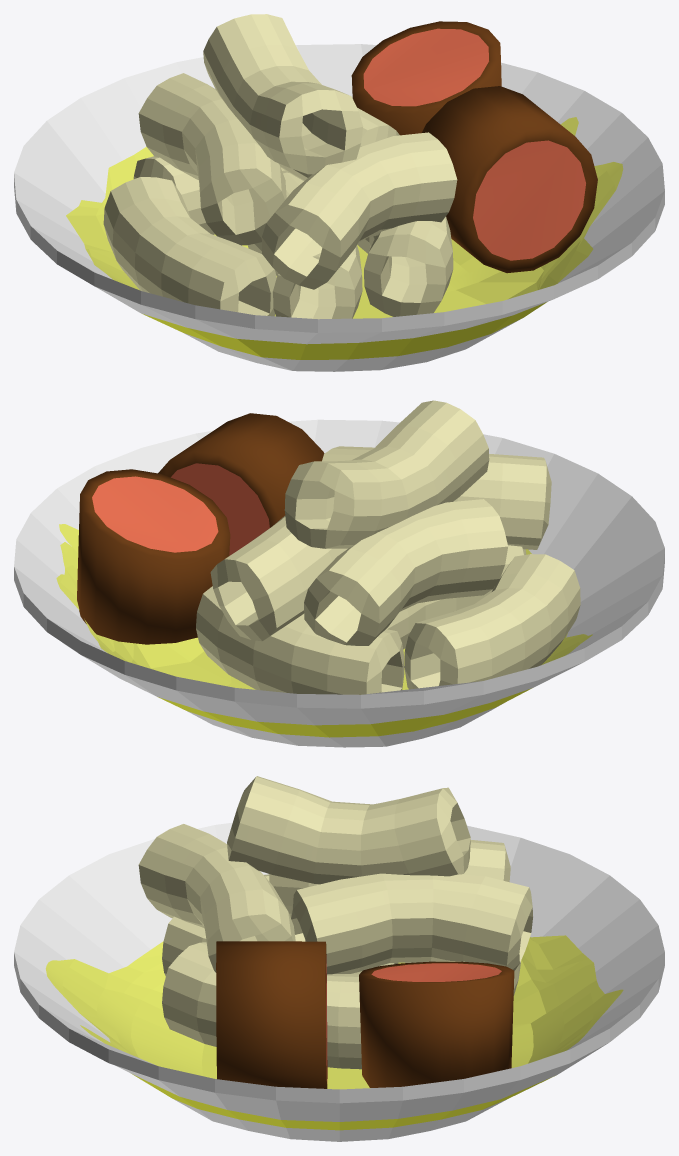
The model's file is split_egged_dogged_mac.fbx.
The picture shows the model from 3 angles, top to bottom: view 1: azimuth 30°, elevation 25°; view 2: azimuth 150°, elevation 25°; view 3: azimuth 270°, elevation 25°; orthographic projection.
Parts seen in each view (by area): view 1: Noodles, Cup, HotdogSlices, Cheese; view 2: Noodles, Cup, HotdogSlices, Cheese; view 3: Noodles, Cup, HotdogSlices, Cheese.
Part boxes in pixels (x1,y1,x2,y2): Noodles: (103,14,457,319); Cup: (14,44,664,371); HotdogSlices: (351,21,597,273); Cheese: (66,117,623,318); Noodles: (196,400,580,694); Cup: (14,419,664,747); HotdogSlices: (77,413,324,644); Cheese: (56,524,592,689); Noodles: (138,776,532,1069); Cup: (14,822,664,1141); HotdogSlices: (216,941,514,1088); Cheese: (45,935,623,1089).
Size of the model in its own units: 39.2 by 17.02 by 39.2.
